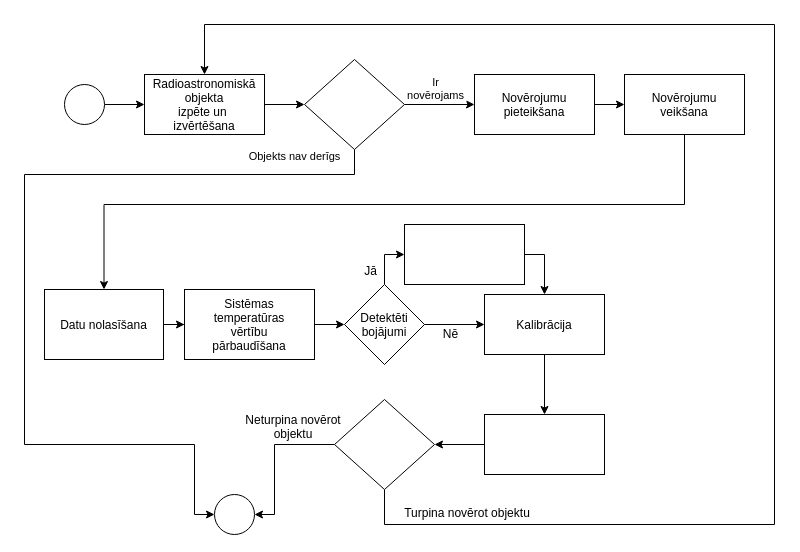
Some shapes in this 800 by 552 pixel diagram are drawn without their labels. Here are the shapes that lost their labels. From the top down, the centre of each, then its label:
At point (354, 104): "Novērojumu iespējamība".
At point (464, 254): "Jaunās vērtības aprēķināšana un bojāto vērtību aizvietošana".
At point (384, 444): "Rezultātu izvērtējums".
At point (544, 444): "Rezultātu apvienošana".
